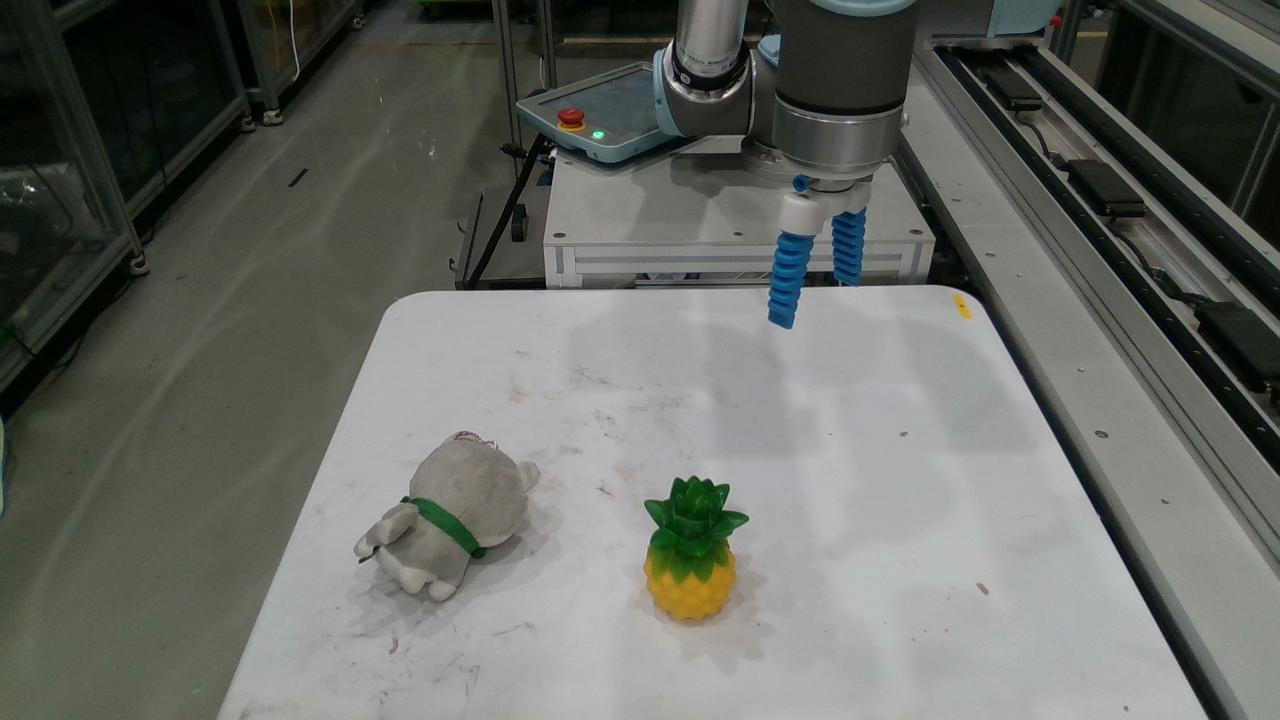UR5: (651, 0, 1061, 236)
gripper_left: (766, 231, 818, 328)
gripper_right: (831, 206, 868, 286)
target: (352, 430, 540, 602), (642, 475, 750, 620)
